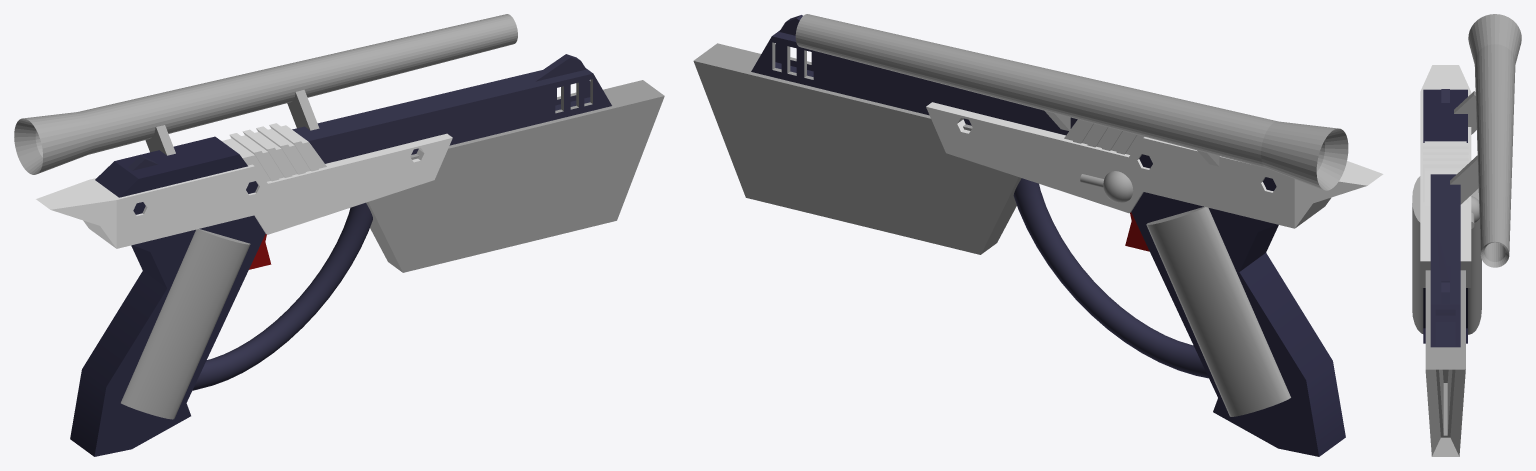
The model's file is TestGun.fbx.
3 renders of one model, left to right at view 1: azimuth 30°, elevation 25°; view 2: azimuth 150°, elevation 25°; view 3: azimuth 270°, elevation 25°, orthographic. The views are drawn at different scales.
Parts seen in each view (by area): view 1: pCube19, pCube14, pCylinder2, pCylinder5, pCube13; view 2: pCube19, pCube14, pCylinder2, pCylinder4, pSphere1; view 3: pCube19, pCylinder2, pCube14, pCylinder5, pCylinder4, pCube13, pCube12, pSphere1.
Part boxes in pixels (<box>): pCube19: <box>36,54,611,456</box>; pCube14: <box>366,80,664,272</box>; pCylinder2: <box>14,14,517,174</box>; pCylinder5: <box>121,229,250,419</box>; pCube13: <box>287,89,319,130</box>; pCube19: <box>751,15,1383,456</box>; pCube14: <box>693,43,1021,254</box>; pCylinder2: <box>795,14,1348,190</box>; pCylinder4: <box>1146,206,1290,416</box>; pSphere1: <box>1103,171,1133,202</box>; pCube19: <box>1420,65,1471,347</box>; pCylinder2: <box>1468,14,1521,267</box>; pCube14: <box>1425,270,1465,456</box>; pCylinder5: <box>1412,176,1423,333</box>; pCylinder4: <box>1468,188,1481,334</box>; pCube13: <box>1450,155,1478,204</box>; pCube12: <box>1454,91,1476,134</box>; pSphere1: <box>1471,196,1479,222</box>.
Bounding box in the file's own units: 15.38 × 7.6 × 2.59.
